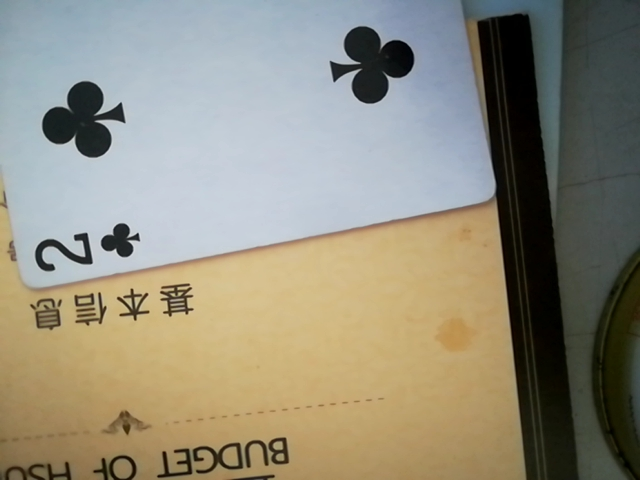mh 2: (0, 0, 497, 285)
